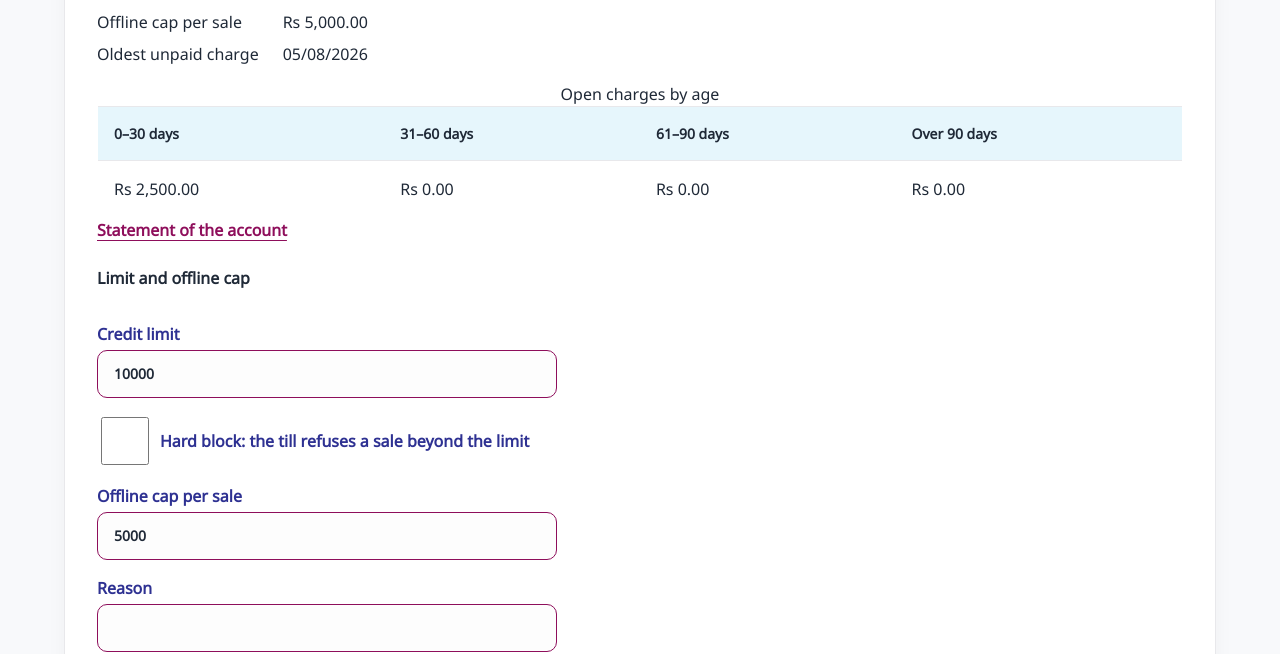
Scenario: the account's limits, state and adjustments › warns that a higher limit needs the second factor and says so when the server asks
(page scrolled)
Replace the text in the number field labelled "Credit limit" with "20000": (327, 374) 97,350 -> 557,398
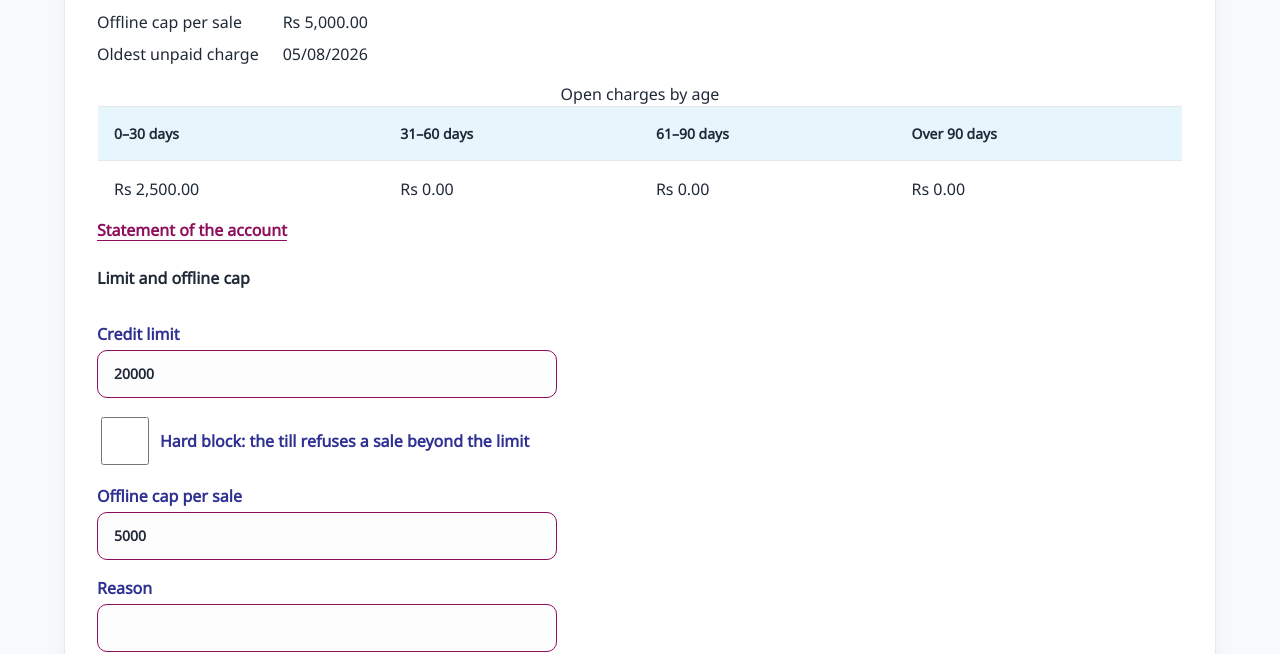
In the field labelled "Reason": (327, 628) 97,604 -> 557,652, type "Pays on time"
(page scrolled)
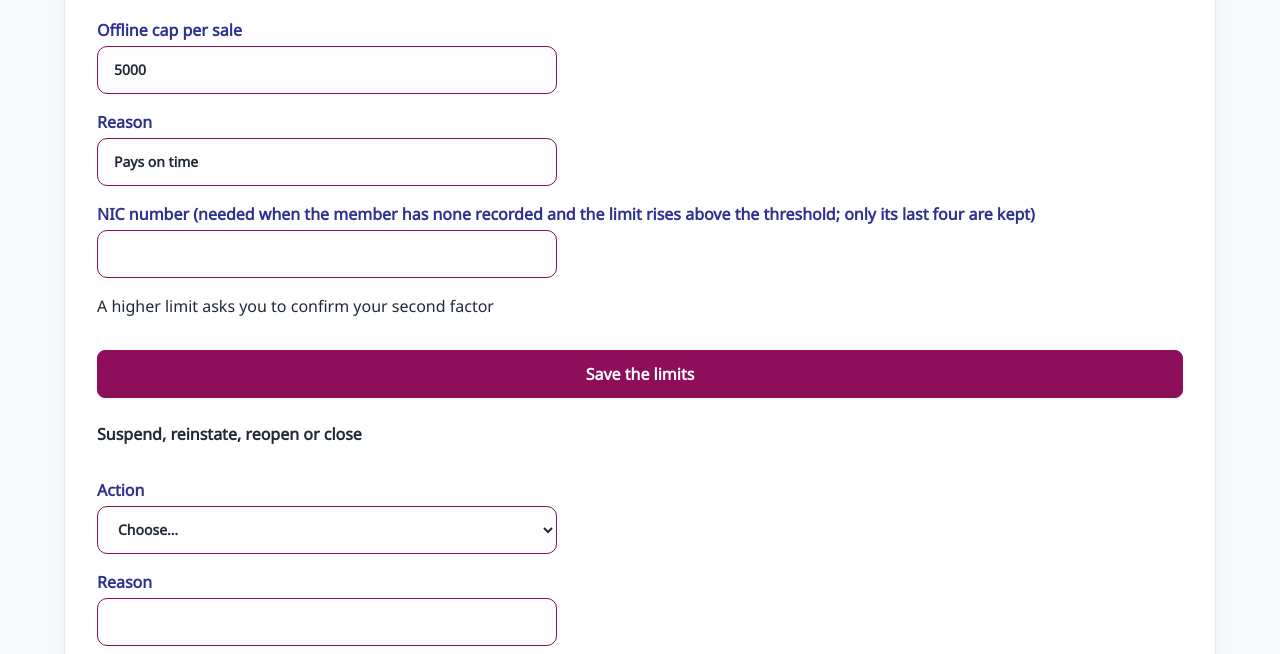
Click the button "Save the limits": (640, 374) 97,350 -> 1183,398
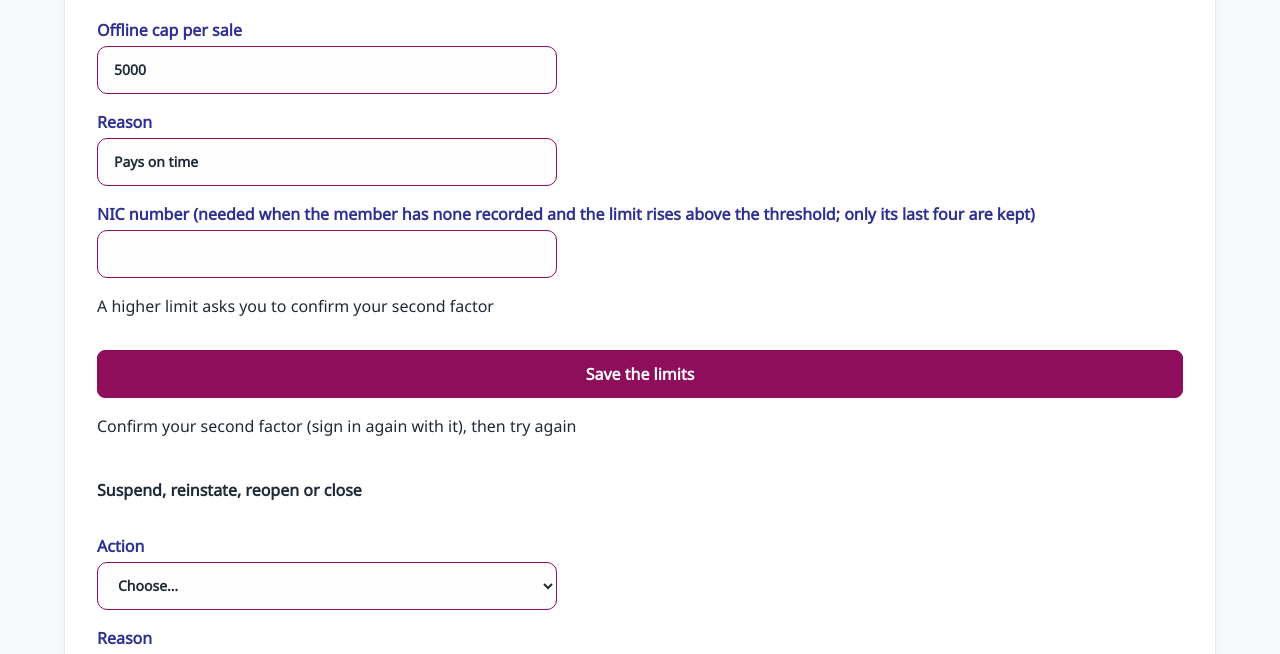
Expected: the message reads "Confirm your second factor (sign in again with it), then try again", 97,414 -> 576,436
